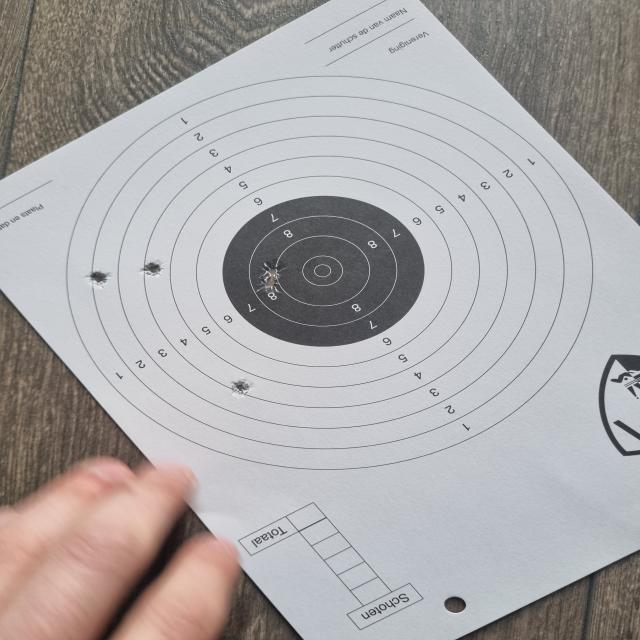2: (88, 269, 110, 289)
4: (228, 379, 253, 398), (140, 262, 164, 276)
8: (256, 276, 280, 293)
9: (258, 261, 285, 277)
Target: (65, 75, 594, 471)
black_contour: (221, 196, 426, 347)
